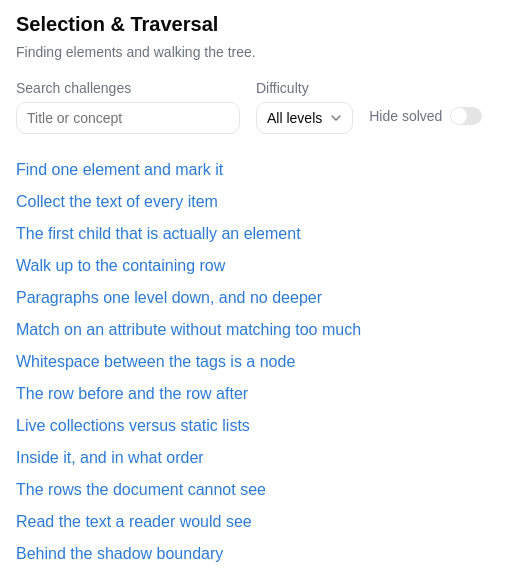
Test case: FilterBar › writes the chosen difficulty into the stored filters and narrows the list to it
Click the dropdown named "Difficulty": x=305, y=118 [256,102,353,134]
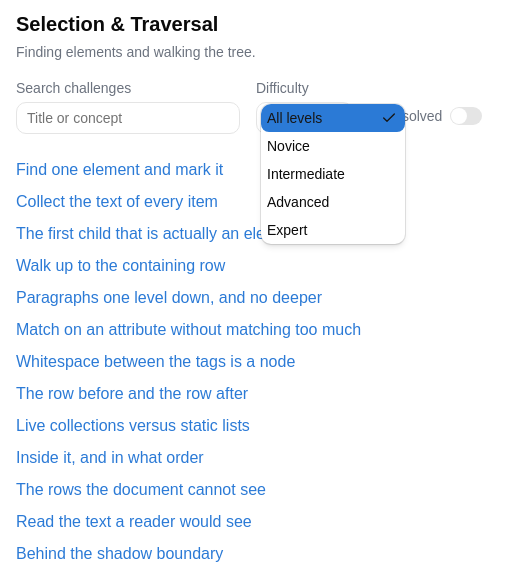
Click the option "Advanced": x=298, y=202 [267,194,329,210]
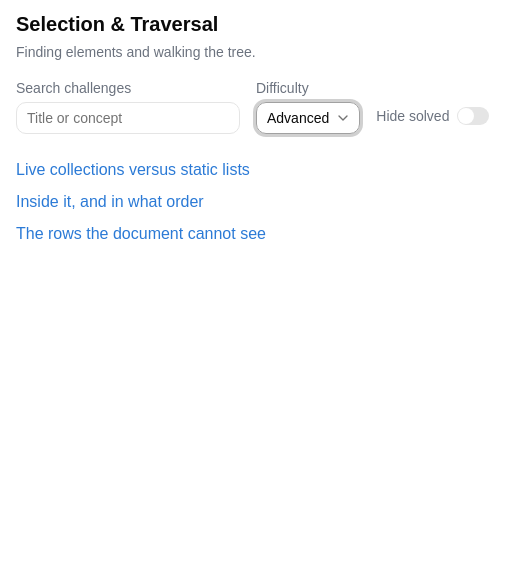
Expected: the link "Live collections versus static lists" is shown, [16,161,250,178]
Expected: the number of list items is 3, [16,161,250,178]; [16,193,204,210]; [16,225,266,242]
